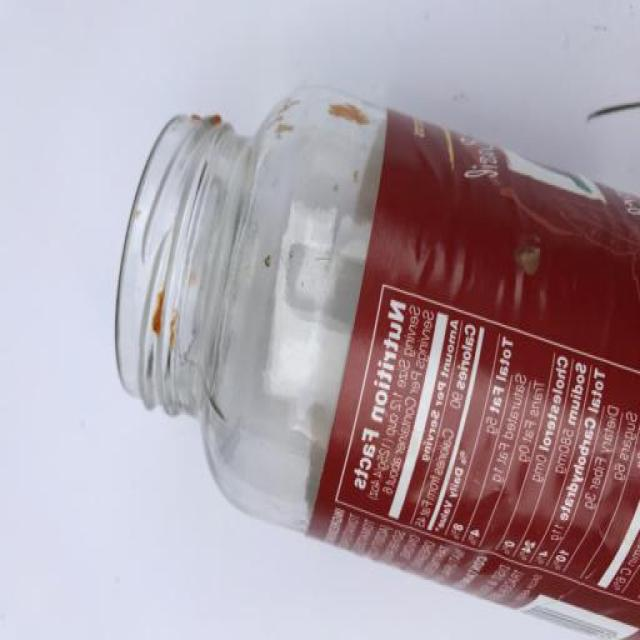glass: (115, 80, 640, 640)
